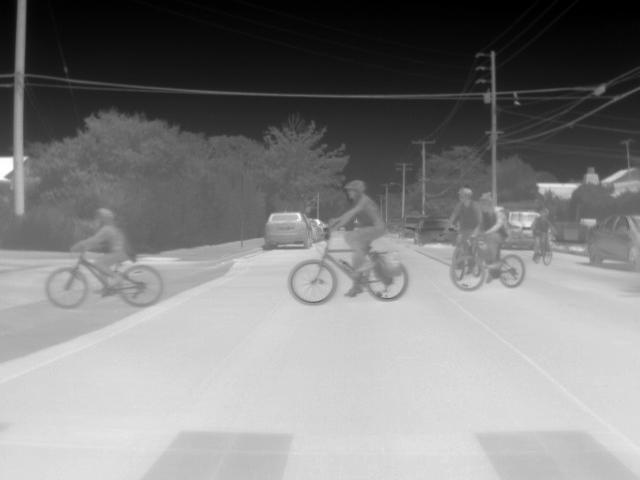car: (586, 212, 640, 270), (263, 210, 315, 249), (506, 209, 541, 246), (413, 218, 456, 248), (398, 214, 428, 238)
person: (317, 176, 391, 297), (80, 206, 130, 296), (476, 192, 513, 280), (446, 183, 482, 247), (528, 207, 555, 252)
